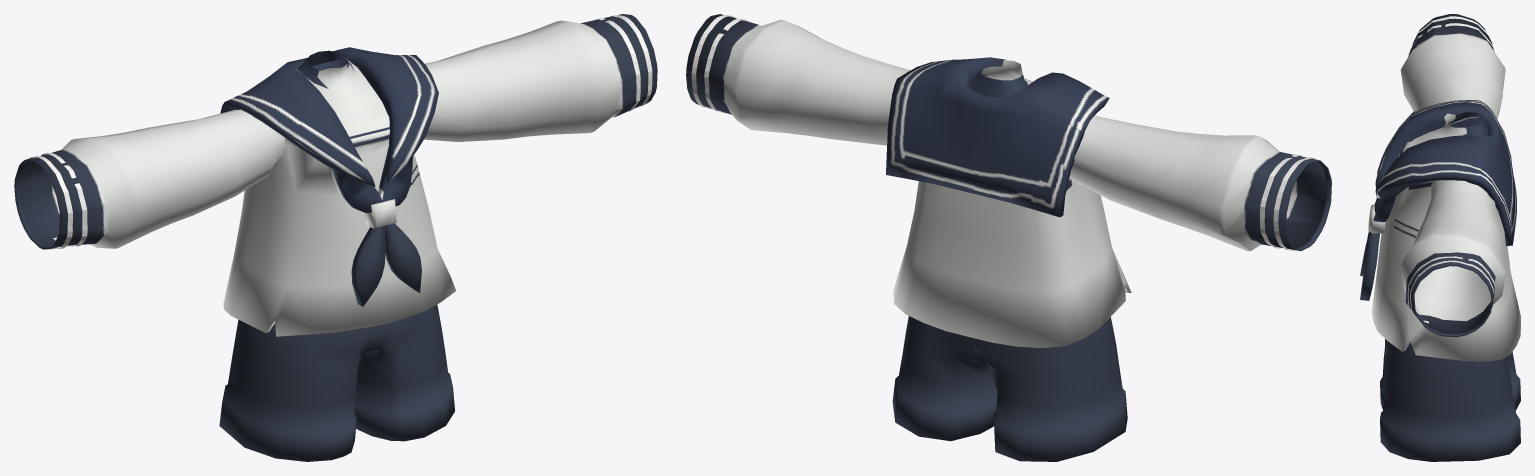
Rendered from sailor-painted-outfit.glb.
3 renders of one model, left to right at view 1: azimuth 30°, elevation 25°; view 2: azimuth 150°, elevation 25°; view 3: azimuth 270°, elevation 25°, orthographic. The views are drawn at different scales.
Parts seen in each view (by area): view 1: Sailor_top, Sailor_pants; view 2: Sailor_top, Sailor_pants; view 3: Sailor_top, Sailor_pants.
Part boxes in pixels (x1,y1,x2,y2): Sailor_top: (14, 14, 657, 336); Sailor_pants: (219, 304, 454, 461); Sailor_top: (686, 14, 1331, 348); Sailor_pants: (892, 316, 1127, 461); Sailor_top: (1360, 14, 1520, 361); Sailor_pants: (1380, 339, 1520, 461).
Bounding box in the file's own units: 2.82 × 1.61 × 0.7638.
Materials: 1 (1 with a texture image).
